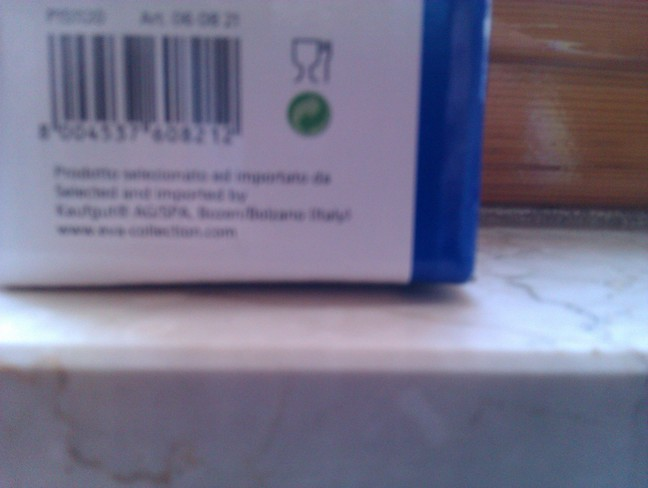detection: (21, 29, 255, 147)
